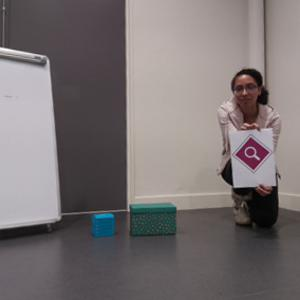search: (233, 133, 273, 172)
